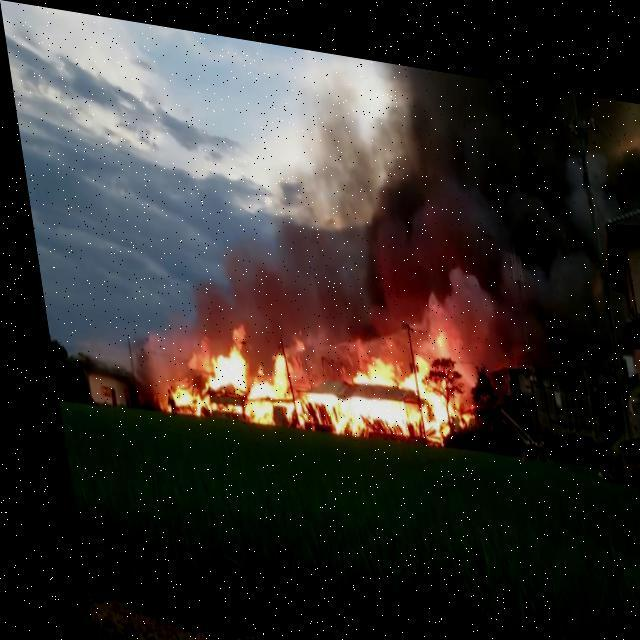Fire: (136, 284, 466, 448)
